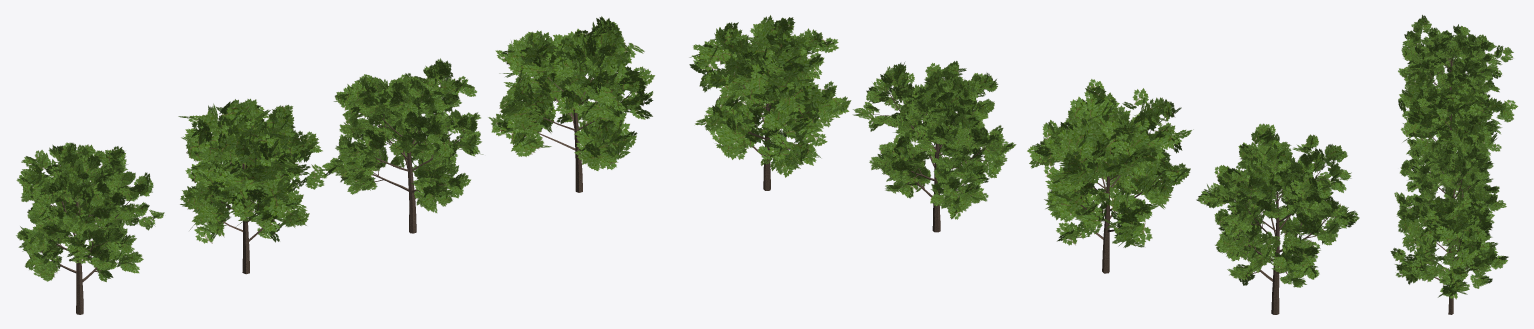
The model's file is tree_plane.glb.
3 renders of one model, left to right at view 1: azimuth 30°, elevation 25°; view 2: azimuth 150°, elevation 25°; view 3: azimuth 270°, elevation 25°, orthographic. The views are drawn at different scales.
Visible parts, largest first — view 1: v1_lo_leaf, v0_lo_leaf, v1_hi_leaf, v0_hi_leaf, v1_hi_bark, v0_hi_bark, v1_lo_bark, v0_lo_bark; view 2: v0_lo_leaf, v1_lo_leaf, v0_hi_leaf, v1_hi_leaf, v0_hi_bark, v1_hi_bark, v0_lo_bark; view 3: v1_lo_leaf, v0_lo_leaf, v0_hi_leaf, v1_hi_leaf, v1_lo_bark, v1_hi_bark, v0_hi_bark.
Boxes of the visible parts, bbox=[...] form: v1_lo_leaf: bbox=[488, 16, 654, 170]; v0_lo_leaf: bbox=[178, 98, 335, 243]; v1_hi_leaf: bbox=[322, 58, 483, 212]; v0_hi_leaf: bbox=[16, 142, 164, 281]; v1_hi_bark: bbox=[339, 76, 466, 233]; v0_hi_bark: bbox=[35, 157, 151, 314]; v1_lo_bark: bbox=[537, 74, 631, 192]; v0_lo_bark: bbox=[210, 152, 298, 274]; v0_lo_leaf: bbox=[1027, 79, 1193, 247]; v1_lo_leaf: bbox=[689, 15, 851, 177]; v0_hi_leaf: bbox=[1196, 123, 1359, 287]; v1_hi_leaf: bbox=[853, 61, 1016, 219]; v0_hi_bark: bbox=[1232, 143, 1338, 314]; v1_hi_bark: bbox=[872, 78, 995, 232]; v0_lo_bark: bbox=[1073, 130, 1161, 273]; v1_lo_leaf: bbox=[1390, 192, 1508, 299]; v0_lo_leaf: bbox=[1398, 71, 1517, 192]; v0_hi_leaf: bbox=[1398, 15, 1513, 129]; v1_hi_leaf: bbox=[1394, 136, 1506, 241]; v1_lo_bark: bbox=[1420, 225, 1486, 314]; v1_hi_bark: bbox=[1409, 169, 1488, 257]; v0_hi_bark: bbox=[1409, 42, 1502, 91].
Size of the model in its own units: 76.26 by 19.81 by 19.4.
Materials: 2 (2 with a texture image).
